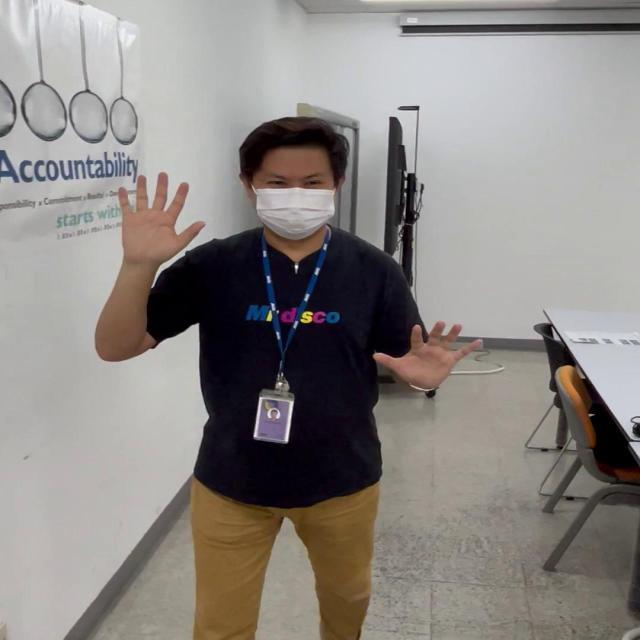bare_hand: (112, 167, 204, 262), (374, 313, 484, 387)
